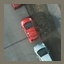car: (20, 15, 39, 43)
